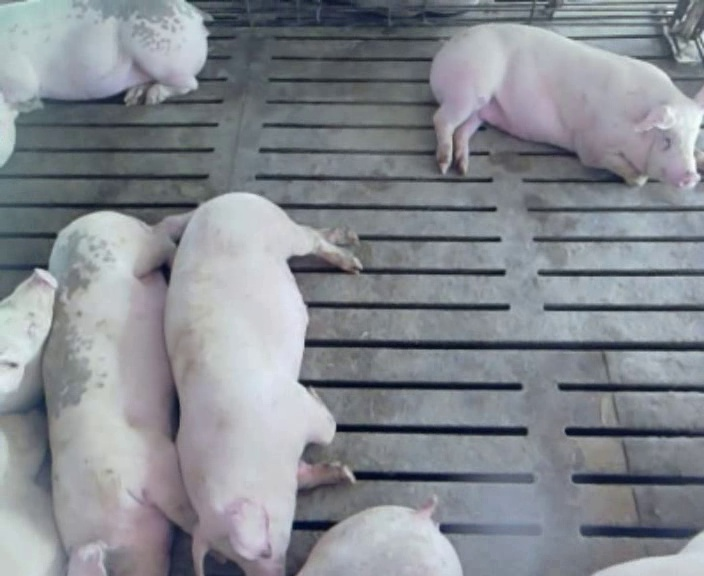pig: (430, 24, 703, 188), (298, 496, 462, 575), (0, 408, 65, 574), (0, 269, 57, 413)
